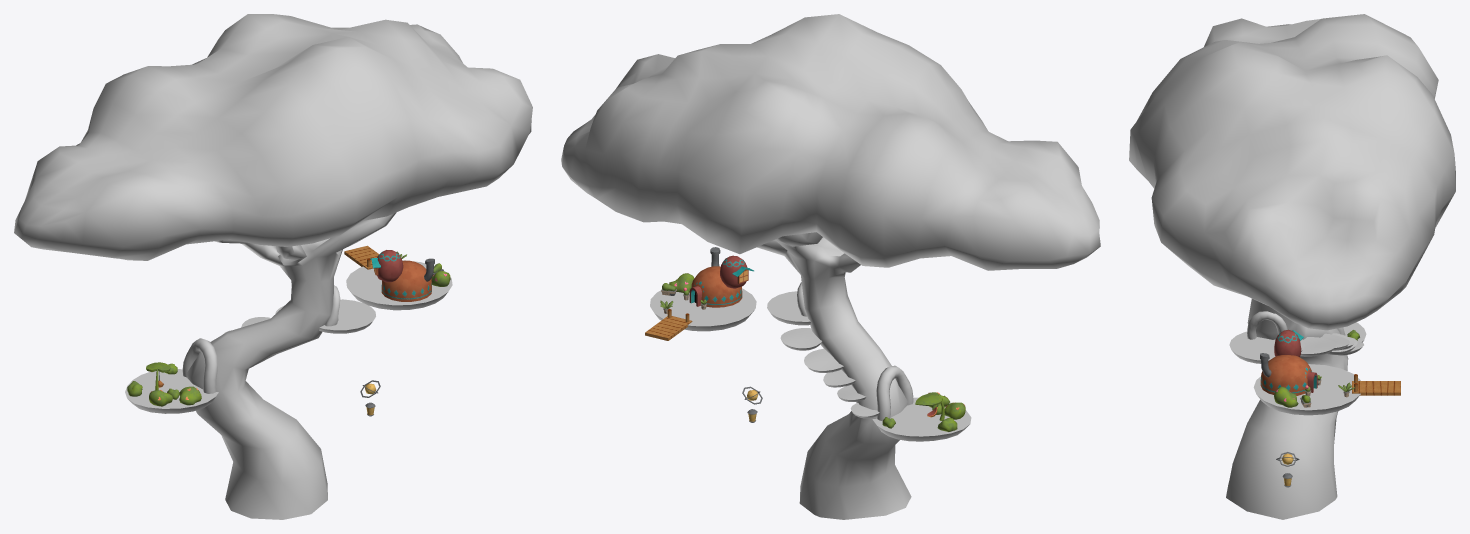
Rendered from HomeSetting_V01.fbx.
The picture shows the model from 3 angles, left to right: view 1: azimuth 30°, elevation 25°; view 2: azimuth 150°, elevation 25°; view 3: azimuth 270°, elevation 25°; orthographic projection. The views are drawn at different scales.
Parts seen in each view (by area): view 1: Leaves, Tree, HousePlatform, YardPlatform, MushroomStairs; view 2: Leaves, Tree, HousePlatform, MushroomStairs, YardPlatform; view 3: Leaves, Tree, HousePlatform, MushroomStairs.
Part boxes in pixels (x1,y1,x2,y2): Leaves: (14,14,532,260); Tree: (182,212,396,519); HousePlatform: (344,245,452,310); YardPlatform: (125,362,218,413); MushroomStairs: (222,299,375,334); Leaves: (561,14,1100,270); Tree: (757,232,913,519); HousePlatform: (645,247,756,340); MushroomStairs: (767,291,879,418); YardPlatform: (872,392,971,441); Leaves: (1129,14,1455,330); Tree: (1226,299,1348,519); HousePlatform: (1253,329,1400,415); MushroomStairs: (1229,331,1363,363).
Size of the model in its own units: 7598 by 6409 by 4057.
